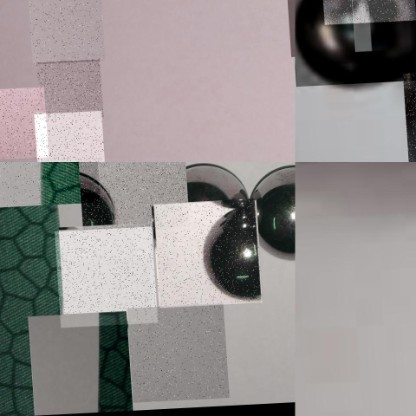ironball: (150, 202, 259, 310), (24, 312, 128, 415), (295, 0, 415, 87), (52, 228, 154, 328), (123, 306, 224, 404), (76, 162, 187, 233), (26, 0, 102, 65), (252, 161, 299, 264), (0, 162, 98, 208), (33, 61, 99, 122), (30, 112, 100, 162), (0, 87, 44, 161), (185, 162, 252, 208), (320, 0, 415, 26), (284, 0, 295, 61)
